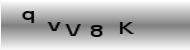8: (89, 24, 104, 38)
K: (118, 20, 135, 36)
V: (64, 23, 83, 37)
q: (21, 9, 35, 24)
v: (47, 21, 62, 32)
